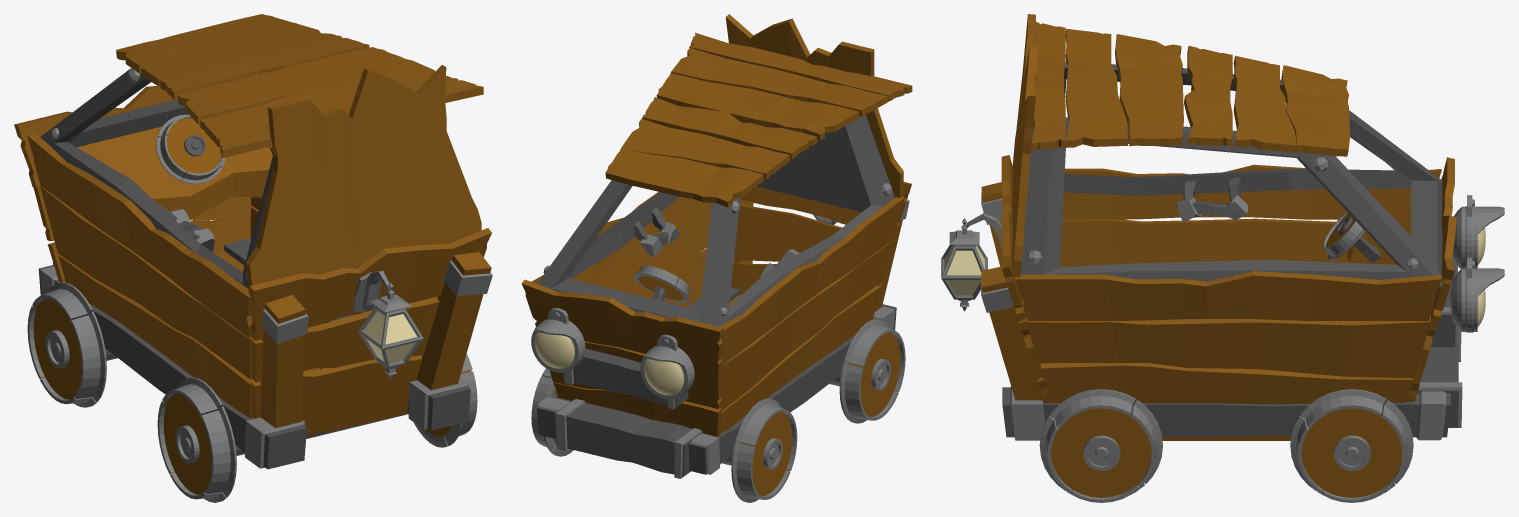
File: CartFINAL.fbx
3 views of the same model, side by side, from view 1: azimuth 30°, elevation 25°; view 2: azimuth 150°, elevation 25°; view 3: azimuth 270°, elevation 25° (orthographic). The views are drawn at different scales.
Parts seen in each view (by area): view 1: Cube.032, Cube.013, Cube.012, Frame.001, wood.002, Cube.023, wheel.002, wheel.003, wood.003, Cube.017, Cube.014, Cube.030 (+19 smaller); view 2: Frame.001, Cube.010, Cube.013, frontBumper, Cube.012, Cube.030, Cube.027, Cube.031, Cube.032, wheel.002, wheel.003, Cube.014 (+22 smaller); view 3: Frame.001, Cube.008, Cube.007, Cube.012, wood.004, wheel.004, wheel, Cube.020, Cube.013, Cube.030, Cube.031, Cube.027 (+18 smaller).
Boxes of the visible parts, box(x1,y1,x2,y2) form: Cube.032: box(246, 65, 481, 299); Cube.013: box(27, 132, 252, 337); Cube.012: box(40, 185, 253, 379); Frame.001: box(40, 69, 359, 288); wood.002: box(249, 228, 491, 340); Cube.023: box(77, 126, 272, 219); wheel.002: box(157, 377, 236, 502); wheel.003: box(27, 282, 106, 407); wood.003: box(251, 355, 422, 435); Cube.017: box(38, 265, 306, 469); Cube.014: box(58, 255, 253, 417); Cube.030: box(178, 47, 410, 124); Frame.001: box(537, 115, 894, 326); Cube.010: box(521, 279, 723, 373); Cube.013: box(720, 196, 904, 364); frontBumper: box(554, 399, 703, 478); Cube.012: box(720, 239, 894, 410); Cube.030: box(656, 73, 859, 140); Cube.027: box(605, 147, 764, 207); Cube.031: box(671, 48, 887, 116); Cube.032: box(725, 14, 903, 197); wheel.002: box(839, 319, 905, 423); wheel.003: box(731, 398, 797, 502); Cube.014: box(721, 285, 881, 432); Frame.001: box(1020, 62, 1442, 286); Cube.008: box(1025, 317, 1430, 378); Cube.007: box(1015, 271, 1441, 320); Cube.012: box(1060, 218, 1349, 267); wood.004: box(1041, 363, 1413, 435); wheel.004: box(1290, 389, 1413, 502); wheel: box(1039, 389, 1162, 502); Cube.020: box(1002, 386, 1450, 440); Cube.013: box(1062, 164, 1441, 219); Cube.030: box(1115, 34, 1183, 146); Cube.031: box(1065, 28, 1128, 147); Cube.027: box(1281, 65, 1349, 156).
Bounding box in the file's own units: 136 × 207 × 259.
